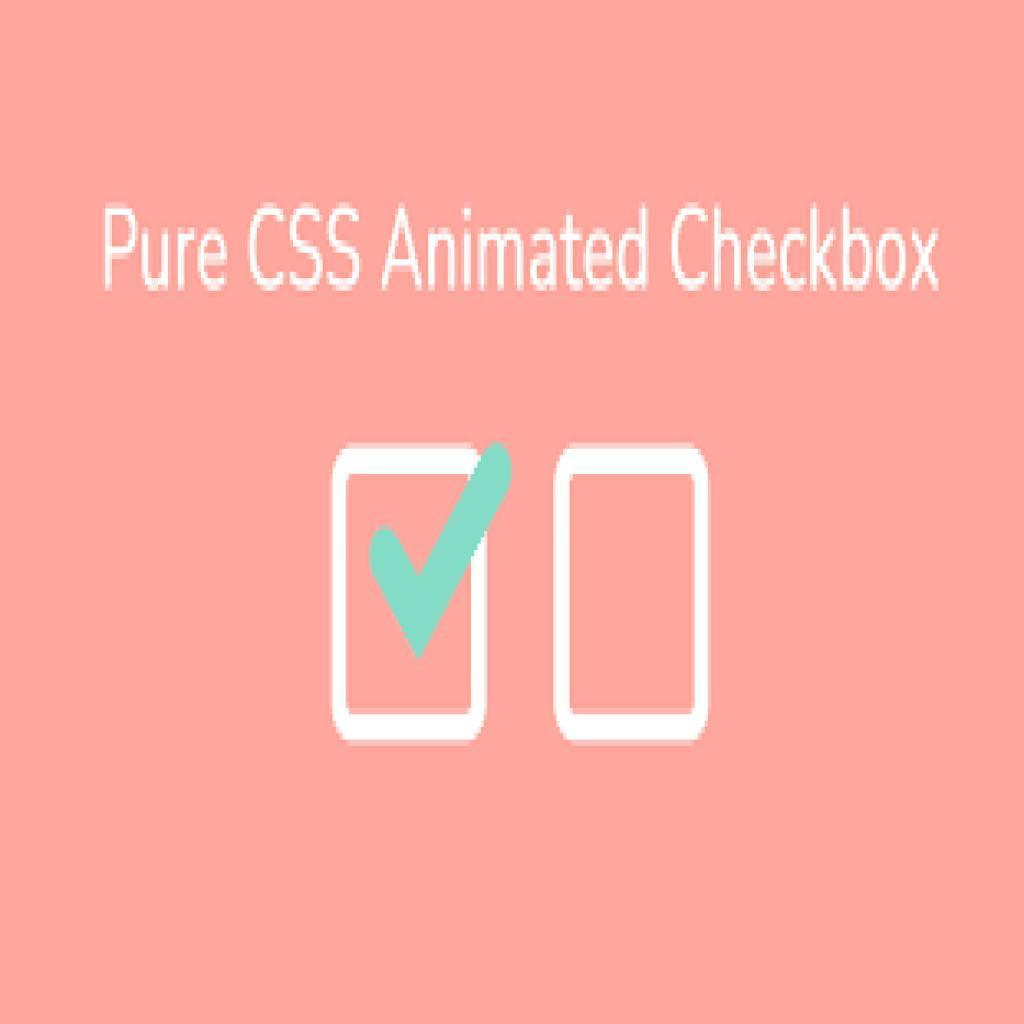checkbox: (332, 442, 501, 747), (549, 440, 714, 747)
